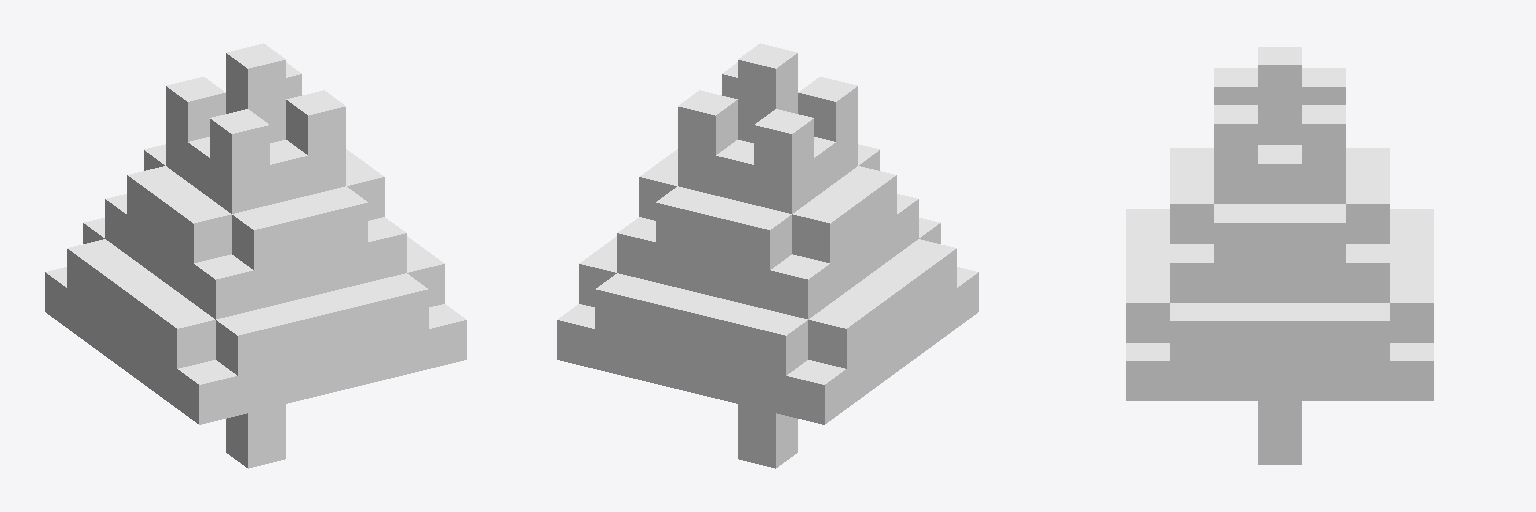
Rendered from start_end-10.obj.
3 views of the same model, side by side, from view 1: azimuth 30°, elevation 25°; view 2: azimuth 150°, elevation 25°; view 3: azimuth 270°, elevation 25° (orthographic).
Visible parts, largest first — view 1: object 1; view 2: object 1; view 3: object 1.
Boxes of the visible parts, <box> form: object 1: <box>45,43,466,468</box>; object 1: <box>557,43,978,468</box>; object 1: <box>1126,47,1433,464</box>.
Size of the model in its own units: 0.7 by 1 by 0.7.